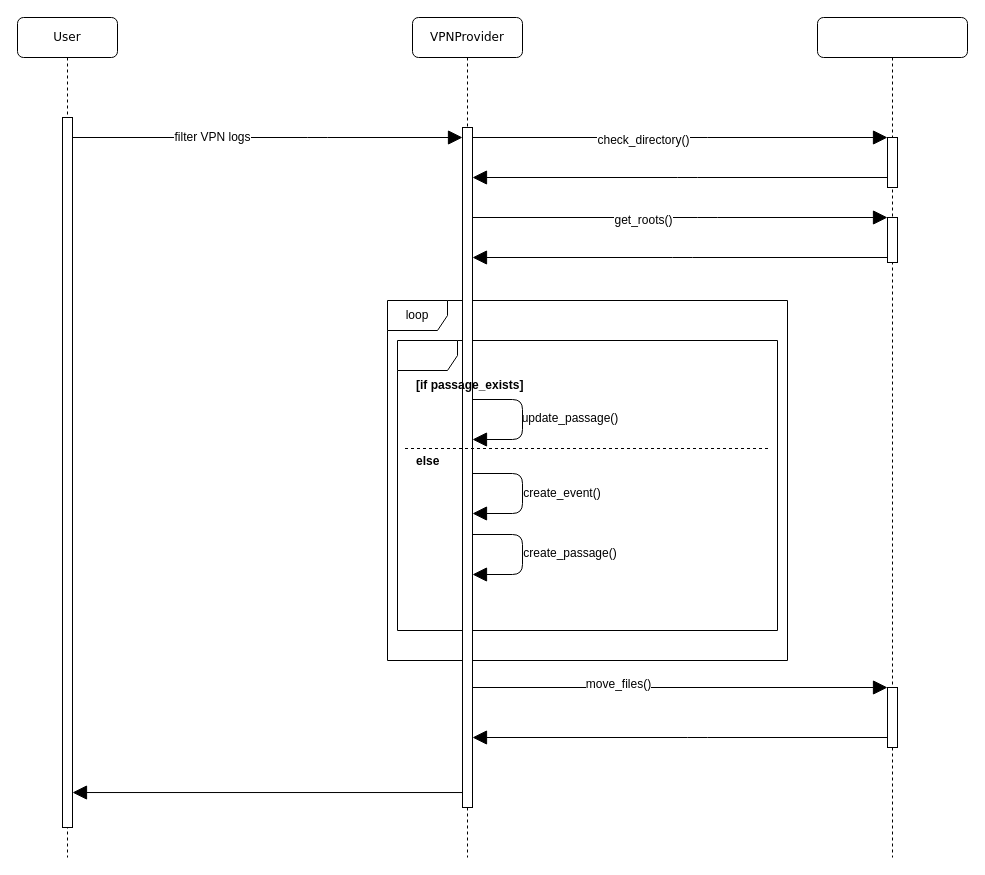
Image size: 985x875. Some labels were removed from this diagram. Here are the shapes that lost their labels. From the top down, the box of each, then its label:
(816, 16, 968, 858): XMLFileManager
(396, 340, 778, 630): alt
